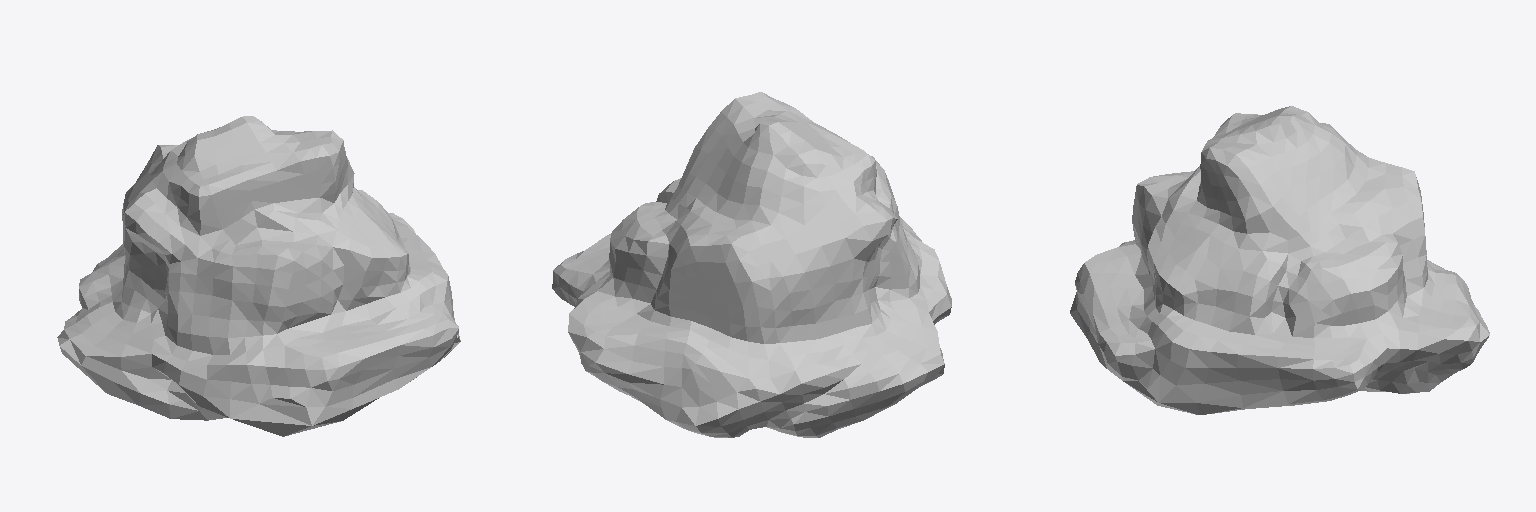
Rendered from boulder.obj.
3 views of the same model, side by side, from view 1: azimuth 30°, elevation 25°; view 2: azimuth 150°, elevation 25°; view 3: azimuth 270°, elevation 25° (orthographic).
Bounding box in the file's own units: 2.6 × 1.9 × 2.65.